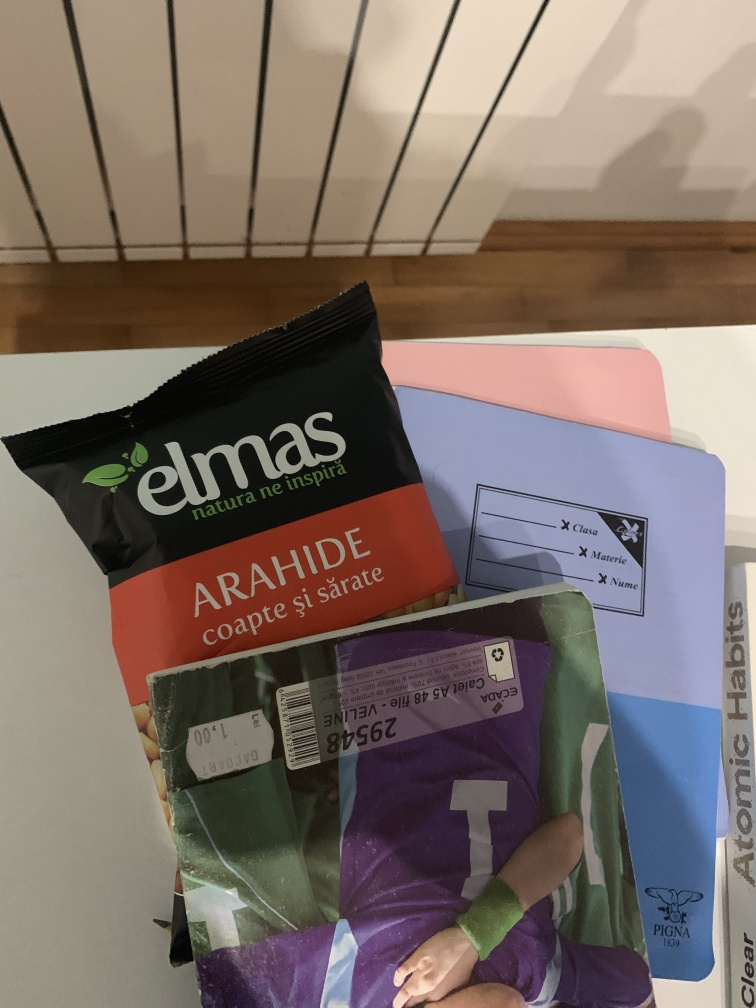peanuts: (3, 277, 497, 664)
